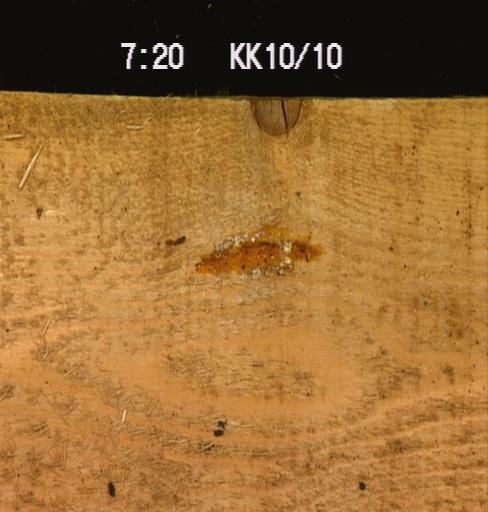edge_knot: (244, 96, 304, 135)
